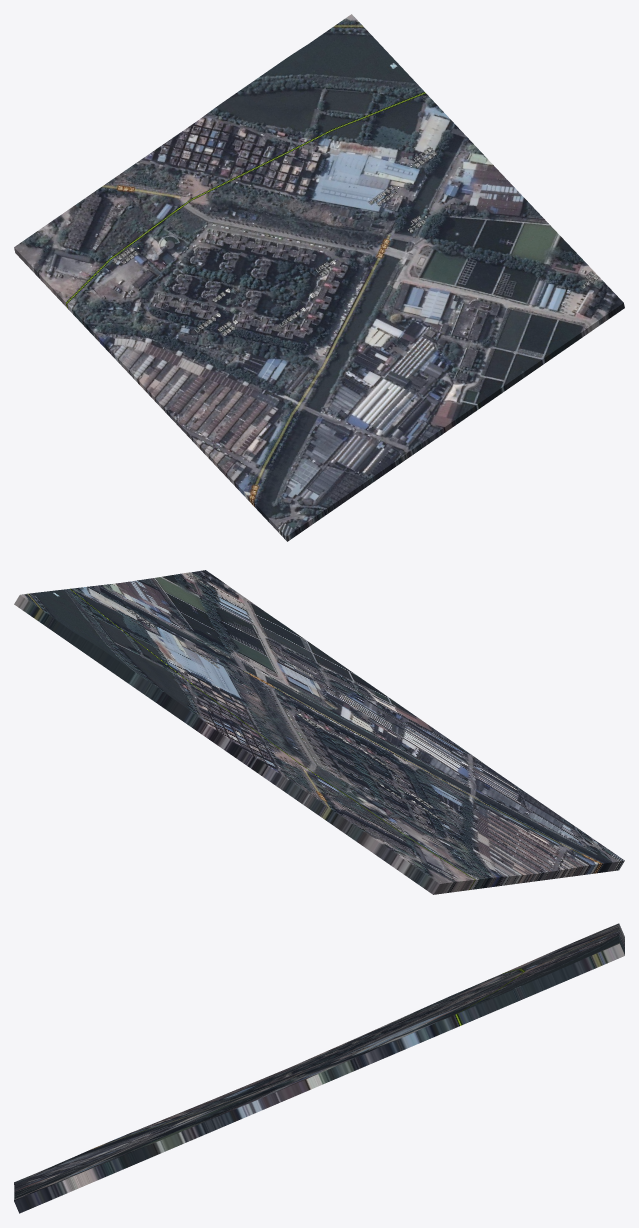
3 renders of one model, top to bottom at view 1: azimuth 30°, elevation 25°; view 2: azimuth 150°, elevation 25°; view 3: azimuth 270°, elevation 25°, orthographic. The views are drawn at different scales.
Parts seen in each view (by area): view 1: 0_21_3; view 2: 0_21_3; view 3: 0_21_3.
Part boxes in pixels (bbox=[...]): 0_21_3: bbox=[14, 14, 624, 541]; 0_21_3: bbox=[14, 570, 624, 894]; 0_21_3: bbox=[14, 923, 624, 1213].
Size of the model in its own units: 597 by 437 by 547.
Materials: 1 (1 with a texture image).
